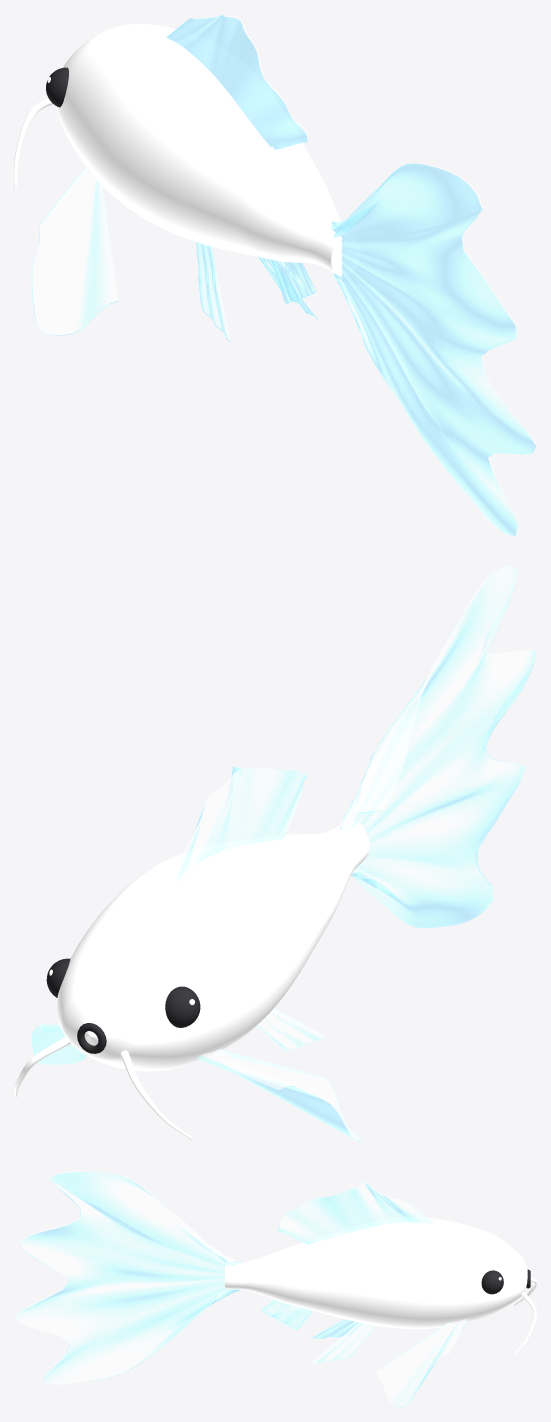
File: FISH_GHOSTKOI.glb
3 views of the same model, one above another, from view 1: azimuth 30°, elevation 25°; view 2: azimuth 150°, elevation 25°; view 3: azimuth 270°, elevation 25° (orthographic). The views are drawn at different scales.
Parts seen in each view (by area): view 1: Body_body, Glow_Tail, Glow_FinPectoral, Glow_FinDorsal, Glow_FinPelvic (×2), Glow_FinAnal, Eye_Iris; view 2: Body_body, Glow_Tail, Glow_FinDorsal, Glow_FinPectoral (×2), Glow_FinPelvic, Eye_Iris, Barbel; view 3: Glow_Tail, Body_body, Glow_FinDorsal, Glow_FinPectoral, Glow_FinPelvic (×2), Glow_FinAnal, Eye_Iris.
Part boxes in pixels (bbox=[...]): Body_body: bbox=[56, 23, 360, 276]; Glow_Tail: bbox=[331, 163, 536, 536]; Glow_FinPectoral: bbox=[31, 166, 118, 335]; Glow_FinDorsal: bbox=[166, 14, 308, 149]; Glow_FinPelvic (×2): bbox=[196, 242, 317, 341]; Glow_FinAnal: bbox=[270, 259, 316, 304]; Eye_Iris: bbox=[46, 67, 68, 107]; Body_body: bbox=[57, 820, 369, 1071]; Glow_Tail: bbox=[338, 565, 536, 927]; Glow_FinDorsal: bbox=[170, 766, 306, 883]; Glow_FinPectoral (×2): bbox=[32, 1023, 361, 1142]; Glow_FinPelvic: bbox=[256, 1008, 325, 1052]; Eye_Iris: bbox=[165, 986, 200, 1027]; Barbel: bbox=[120, 1050, 193, 1140]; Glow_Tail: bbox=[14, 1171, 241, 1384]; Body_body: bbox=[225, 1217, 527, 1328]; Glow_FinDorsal: bbox=[277, 1181, 435, 1244]; Glow_FinPectoral: bbox=[376, 1319, 467, 1407]; Glow_FinPelvic (×2): bbox=[310, 1319, 376, 1364]; Glow_FinAnal: bbox=[260, 1300, 313, 1330]; Eye_Iris: bbox=[481, 1270, 503, 1294].
Size of the model in its own units: 1.05 by 1.12 by 2.57.
